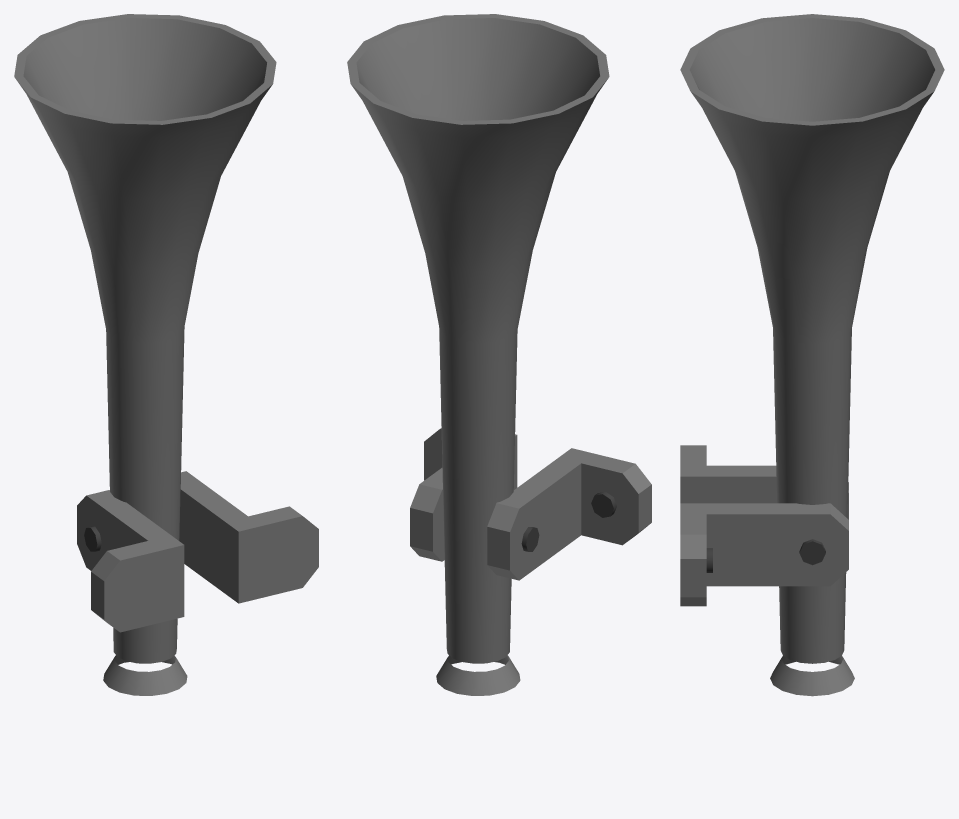
Rendered from Veh_LaBa_1X3_off.FBX.
3 views of the same model, side by side, from view 1: azimuth 30°, elevation 25°; view 2: azimuth 150°, elevation 25°; view 3: azimuth 270°, elevation 25° (orthographic).
Visible parts, largest first — view 1: Box001; view 2: Box001; view 3: Box001.
Boxes of the visible parts, bbox=[...] form: Box001: bbox=[14, 14, 318, 695]; Box001: bbox=[347, 14, 651, 695]; Box001: bbox=[680, 14, 944, 696].
Bounding box in the file's own units: 1 × 3 × 1.
